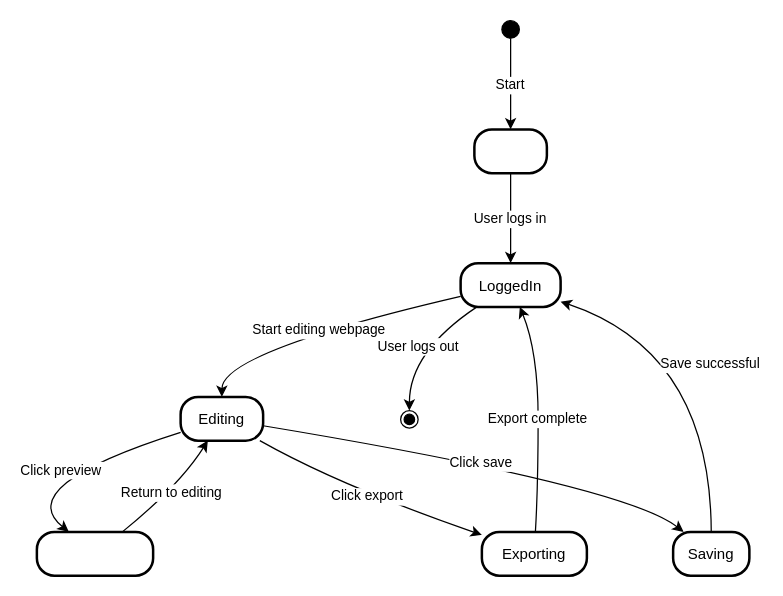
Some shapes in this 783 by 596 pixel diagram are drawn without their labels. Here are the shapes that lost their labels. From the top down, the centre of each, then its label:
the point at 510,151: Initial
the point at 94,553: Previewing
